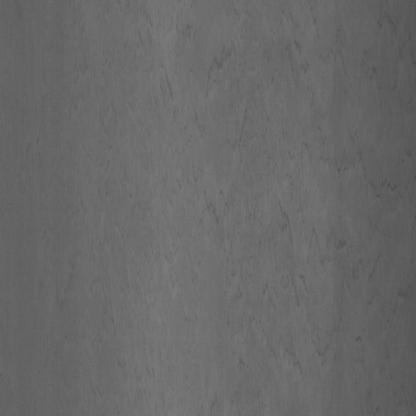silk_spot: (197, 173, 358, 339), (284, 16, 416, 135), (155, 26, 266, 157)
